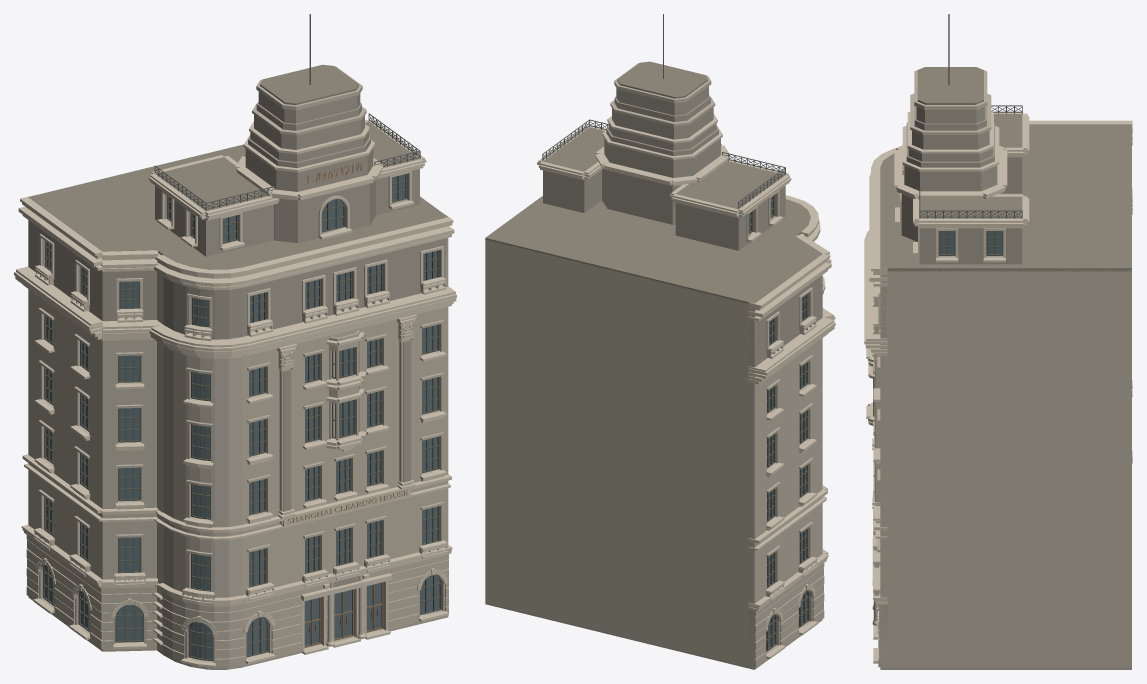
The model's file is huangpu-glen-line-building-web.glb.
The picture shows the model from 3 angles, left to right: view 1: azimuth 30°, elevation 25°; view 2: azimuth 150°, elevation 25°; view 3: azimuth 270°, elevation 25°; orthographic projection. The views are drawn at different scales.
Visible parts, largest first — view 1: 格林邮船大楼（外滩28号临江正面与东南街角）; view 2: 格林邮船大楼（外滩28号临江正面与东南街角）; view 3: 格林邮船大楼（外滩28号临江正面与东南街角）.
Boxes of the visible parts, box(x1,y1,x2,y2) form: 格林邮船大楼（外滩28号临江正面与东南街角）: box(14, 14, 456, 669); 格林邮船大楼（外滩28号临江正面与东南街角）: box(485, 14, 835, 669); 格林邮船大楼（外滩28号临江正面与东南街角）: box(864, 14, 1132, 669).
Bounding box in the file's own units: 21.32 × 39.78 × 16.
